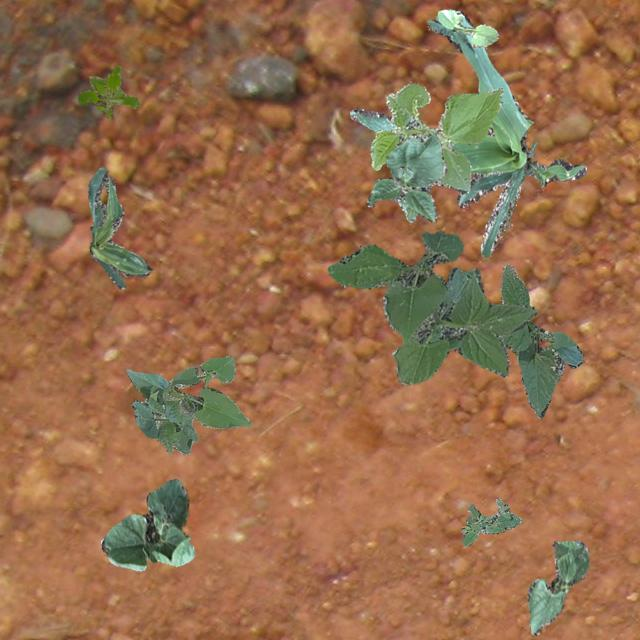crop: (348, 10, 586, 256), (370, 82, 502, 220), (125, 354, 252, 454), (499, 264, 582, 416), (100, 478, 192, 570), (86, 165, 150, 288), (366, 130, 446, 220), (526, 540, 588, 634), (438, 8, 498, 46)
weed: (327, 230, 536, 384), (76, 64, 140, 119), (460, 496, 520, 546)
